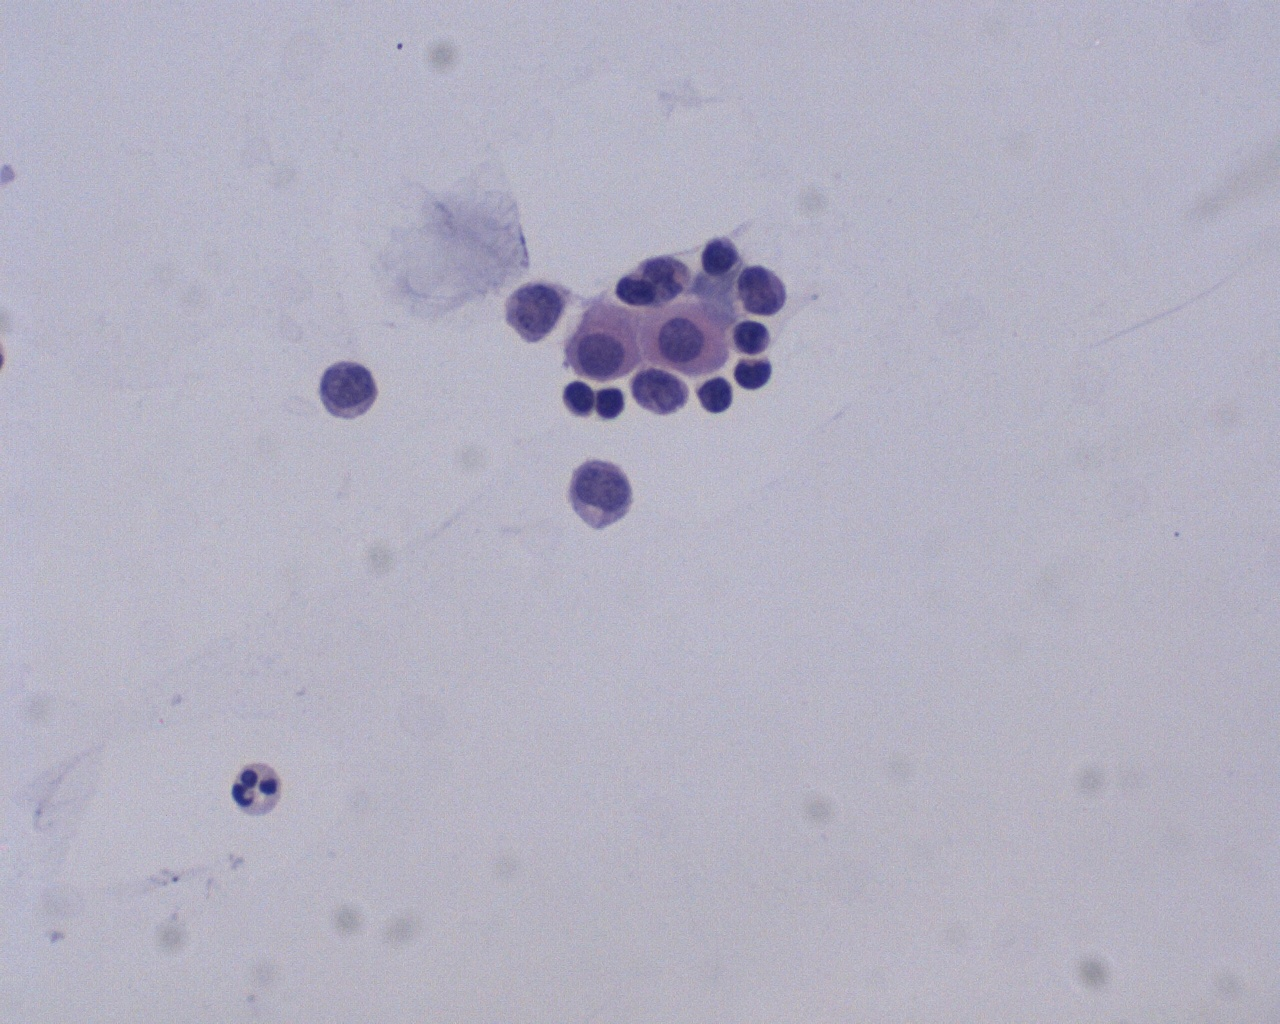ab: (499, 273, 571, 348), (315, 359, 388, 430), (569, 459, 637, 533), (731, 258, 798, 327), (626, 360, 691, 423)
lymph: (555, 375, 597, 422)
meso: (642, 303, 734, 381), (567, 301, 650, 385)
neutro: (231, 759, 293, 822)
